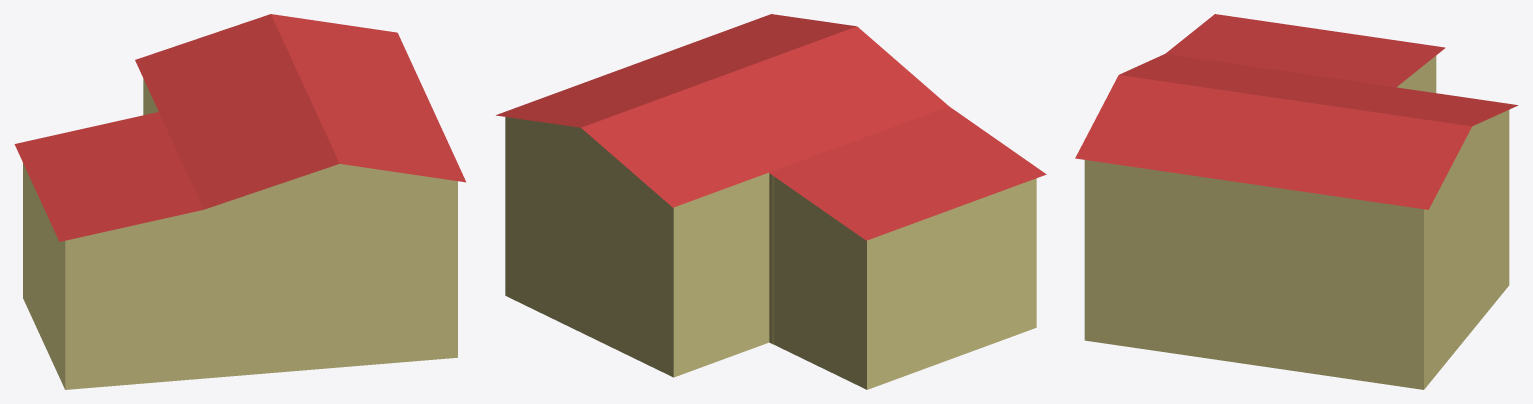
The picture shows the model from 3 angles, left to right: view 1: azimuth 30°, elevation 25°; view 2: azimuth 150°, elevation 25°; view 3: azimuth 270°, elevation 25°; orthographic projection. The views are drawn at different scales.
Bounding box in the file's own units: 17.6 × 14.8 × 7.88.
